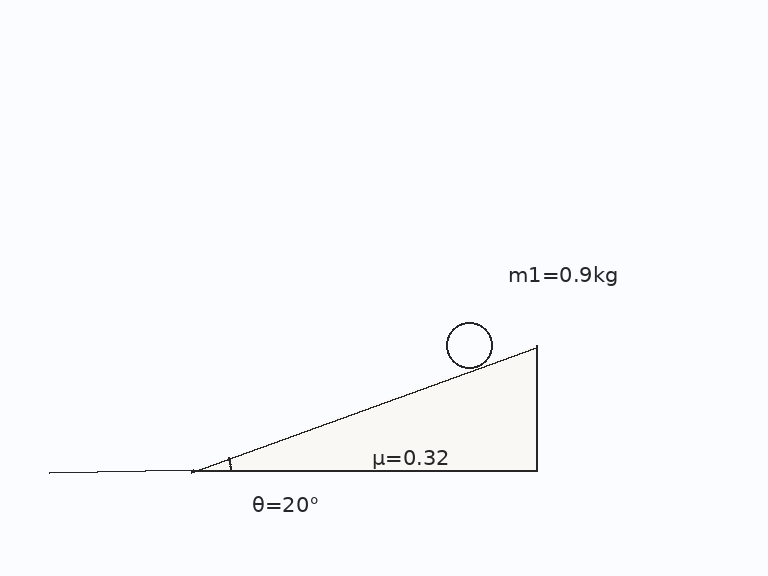ball: (444, 320, 494, 370)
ramp: (189, 343, 538, 473)
